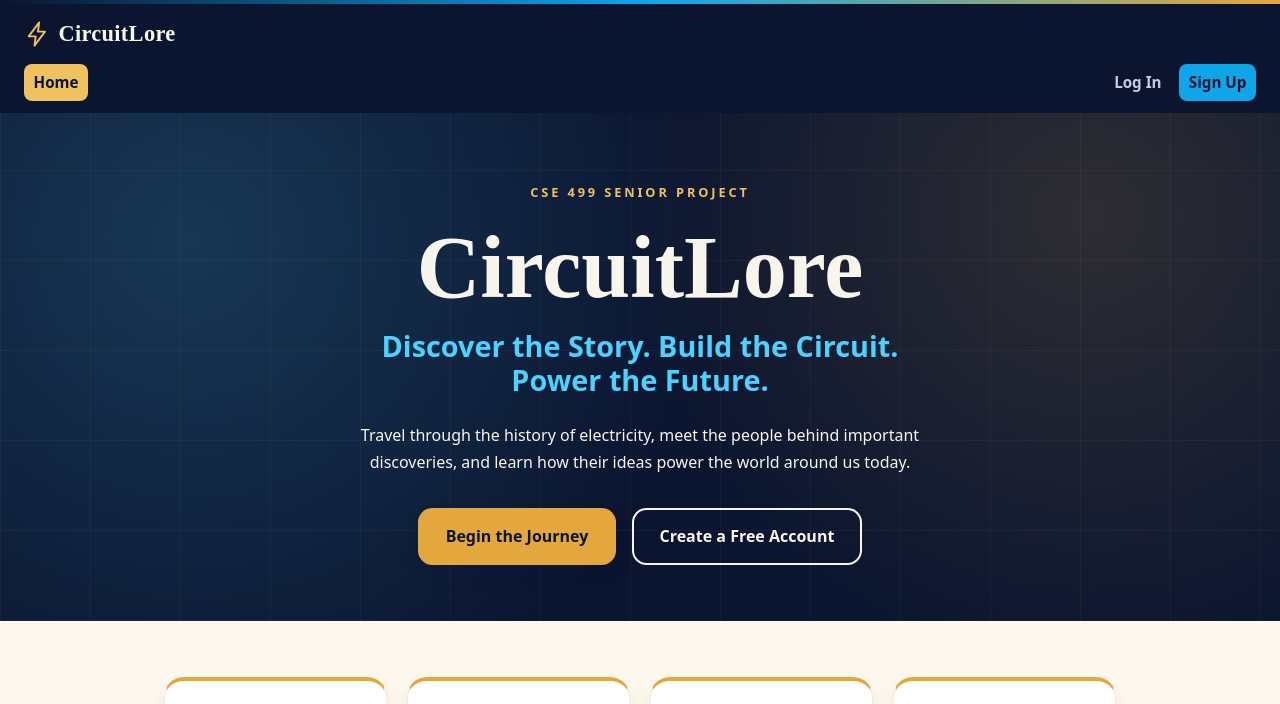
Home page › navigates to the Learning Journey page when "Begin the Journey" is clicked
Click the link "Begin the Journey". click: (517, 536)
box: [418,508,616,565]
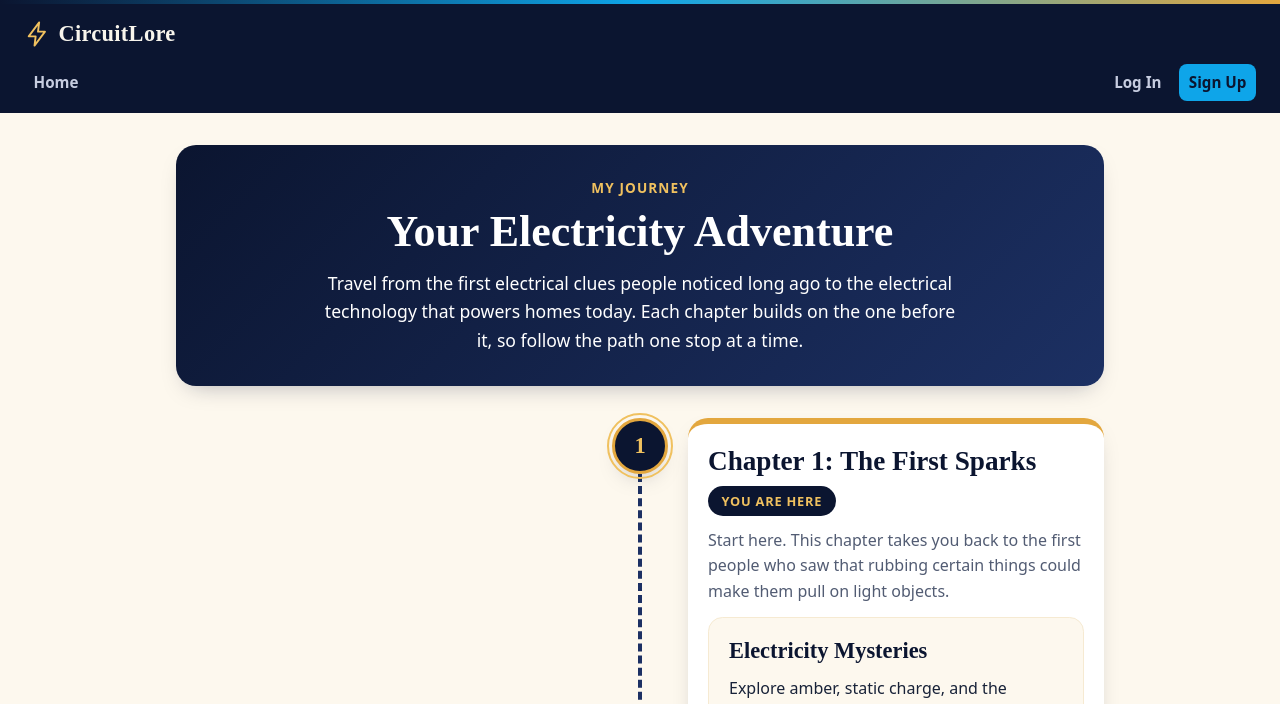
Result: the heading "Your Electricity Adventure" is shown at [387,207,893,256]
